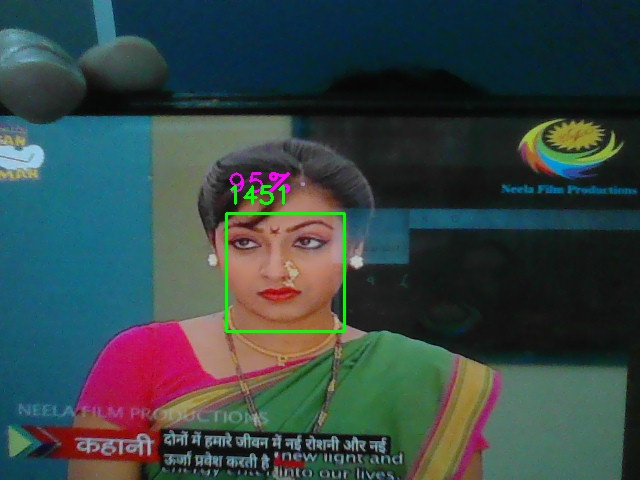fake: (226, 213, 345, 332)
